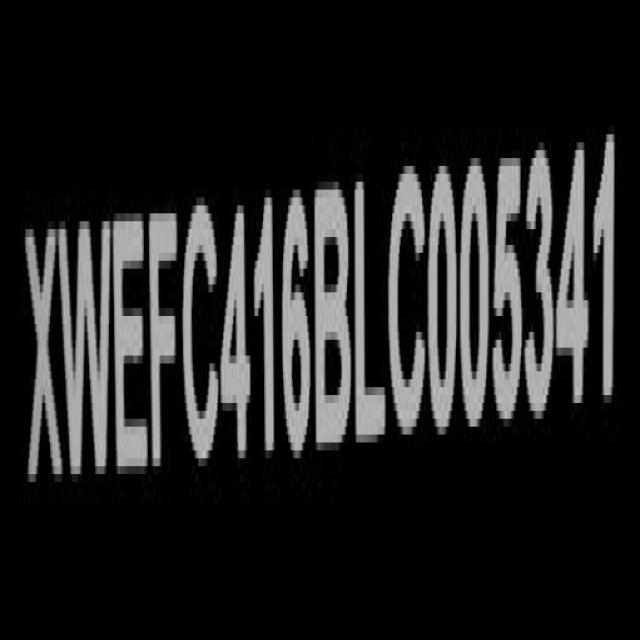0: (462, 160, 491, 440), (430, 160, 458, 444)
1: (596, 124, 620, 418), (255, 188, 278, 470)
3: (527, 142, 555, 431)
4: (555, 132, 589, 420), (222, 193, 250, 471)
5: (493, 150, 525, 432)
6: (283, 183, 315, 465)
B: (315, 179, 350, 463)
C: (392, 170, 429, 451), (186, 205, 222, 486)
E: (115, 212, 152, 493)
F: (150, 206, 183, 491)
L: (355, 170, 389, 456)
W: (62, 214, 115, 492)
X: (25, 218, 64, 498)
